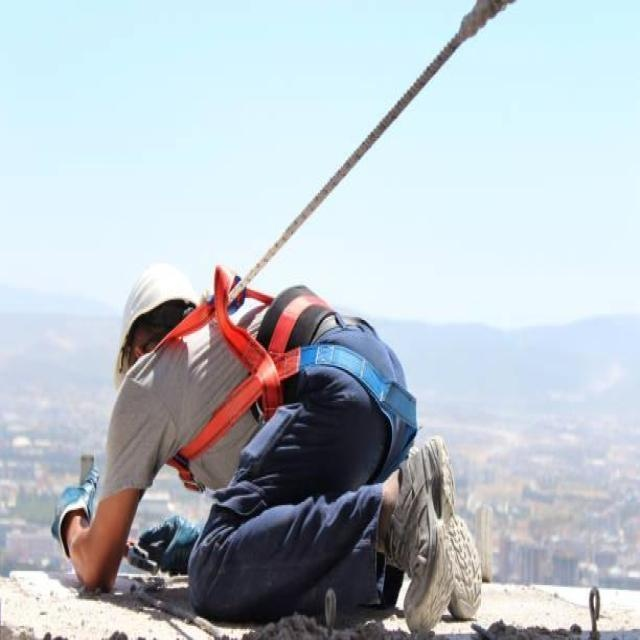Arnes_seguridad: (155, 274, 420, 495)
